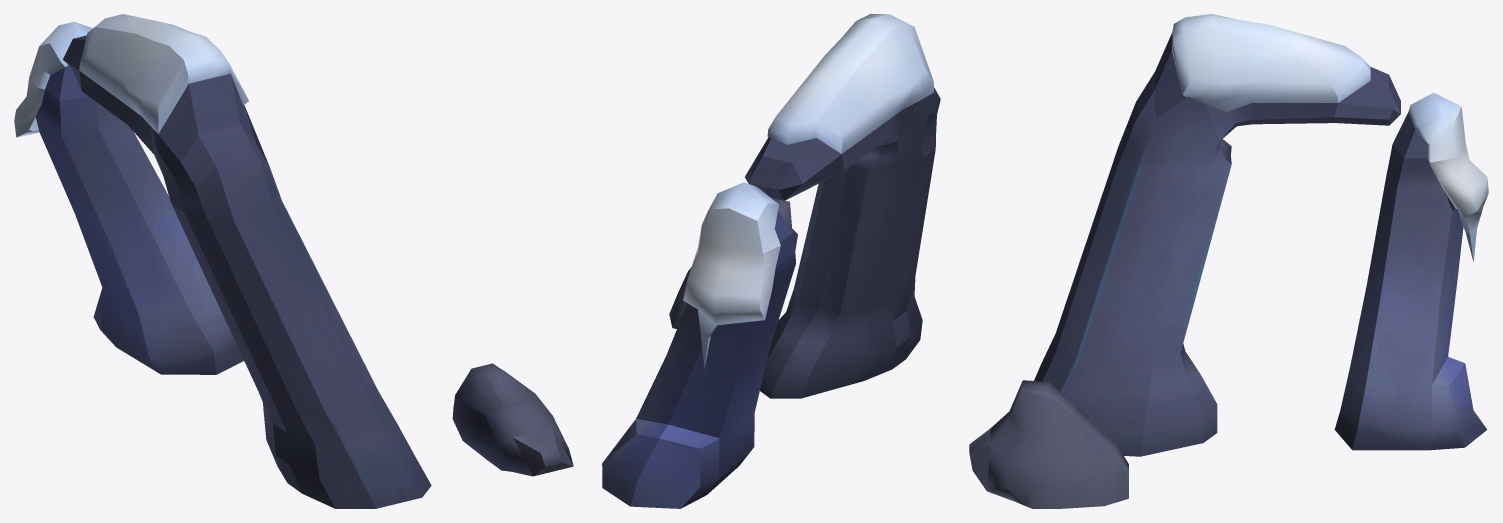
The model's file is gate.fbx.
3 views of the same model, side by side, from view 1: azimuth 30°, elevation 25°; view 2: azimuth 150°, elevation 25°; view 3: azimuth 270°, elevation 25° (orthographic). The views are drawn at different scales.
Parts seen in each view (by area): view 1: polySurface3, polySurface1, polySurface4, pCube4, polySurface2; view 2: polySurface3, polySurface1, polySurface4, polySurface2, pCube4; view 3: polySurface3, polySurface1, pCube4, polySurface4, polySurface2.
Boxes of the visible parts, left/top/right/bottom form: polySurface3: left=63, top=35, right=431, bottom=508; polySurface1: left=35, top=65, right=243, bottom=374; polySurface4: left=79, top=14, right=248, bottom=133; pCube4: left=452, top=363, right=573, bottom=476; polySurface2: left=14, top=21, right=92, bottom=137; polySurface3: left=745, top=87, right=940, bottom=398; polySurface1: left=602, top=210, right=795, bottom=508; polySurface4: left=767, top=14, right=933, bottom=153; polySurface2: left=683, top=182, right=780, bottom=368; pCube4: left=669, top=197, right=797, bottom=328; polySurface3: left=1034, top=33, right=1400, bottom=456; polySurface1: left=1334, top=112, right=1487, bottom=450; pCube4: left=969, top=380, right=1128, bottom=508; polySurface4: left=1172, top=14, right=1370, bottom=111; polySurface2: left=1408, top=92, right=1488, bottom=261.
Bounding box in the file's own units: 16.88 × 20.58 × 26.1.
